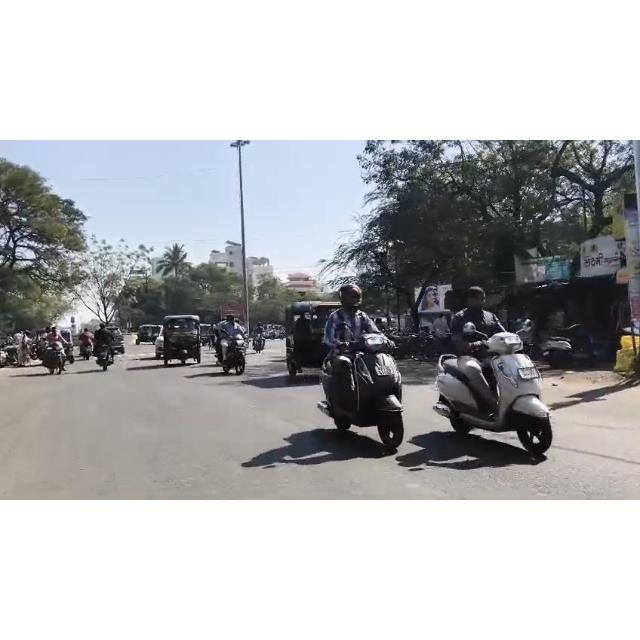auto: (285, 302, 349, 375), (164, 313, 203, 364), (36, 322, 80, 363), (137, 323, 165, 345)
car: (101, 329, 129, 354)
